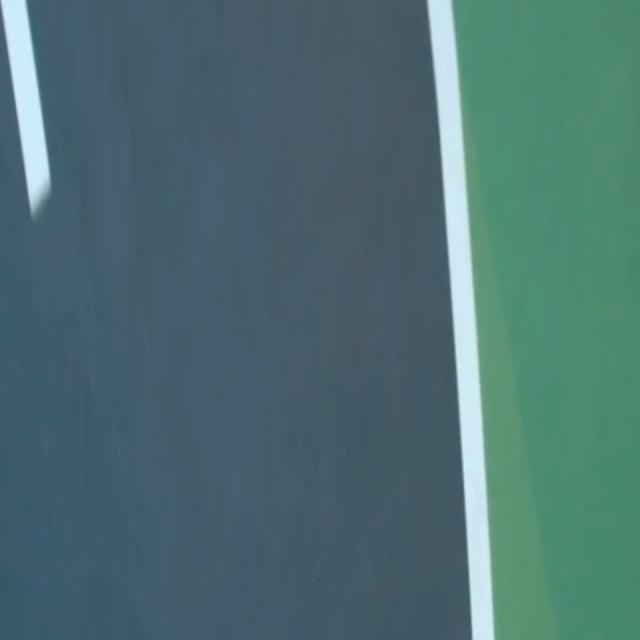center: (3, 0, 49, 191)
right: (427, 0, 494, 639)
